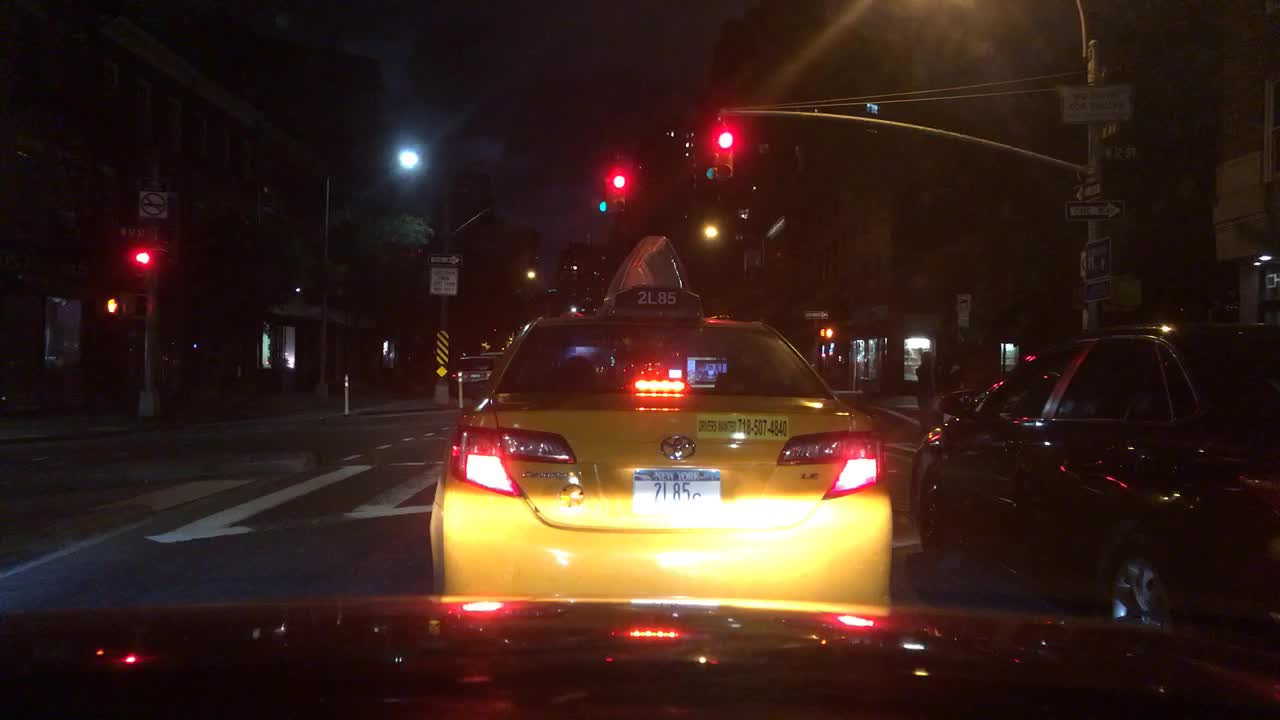car: (429, 232, 894, 605), (908, 322, 1280, 637), (446, 350, 498, 398)
traffic light: (613, 160, 630, 212), (718, 124, 733, 177), (103, 295, 133, 321), (595, 166, 610, 212), (704, 135, 718, 181), (134, 249, 149, 289), (817, 322, 837, 341)
traffic sign: (1057, 81, 1138, 114), (137, 187, 174, 221), (1077, 240, 1115, 270), (114, 224, 160, 243), (429, 267, 457, 298), (1105, 144, 1146, 163), (1071, 203, 1121, 217), (957, 290, 973, 332), (429, 253, 463, 264), (1075, 180, 1097, 197), (797, 309, 834, 318)
